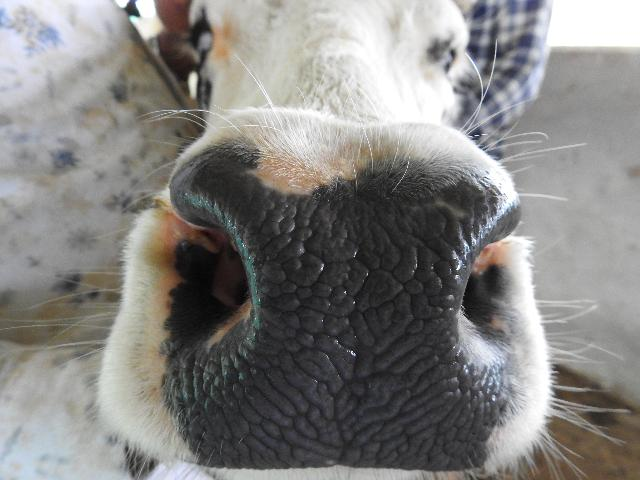Muzzle: (222, 184, 478, 472)
